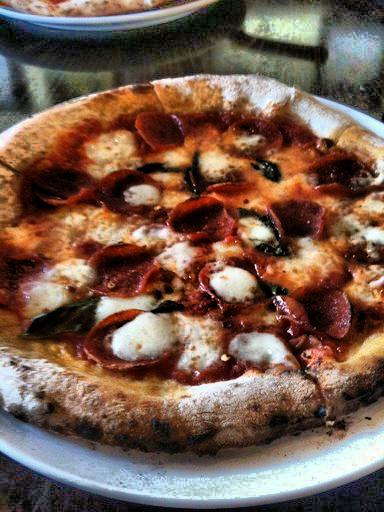pizza: (2, 88, 384, 422)
